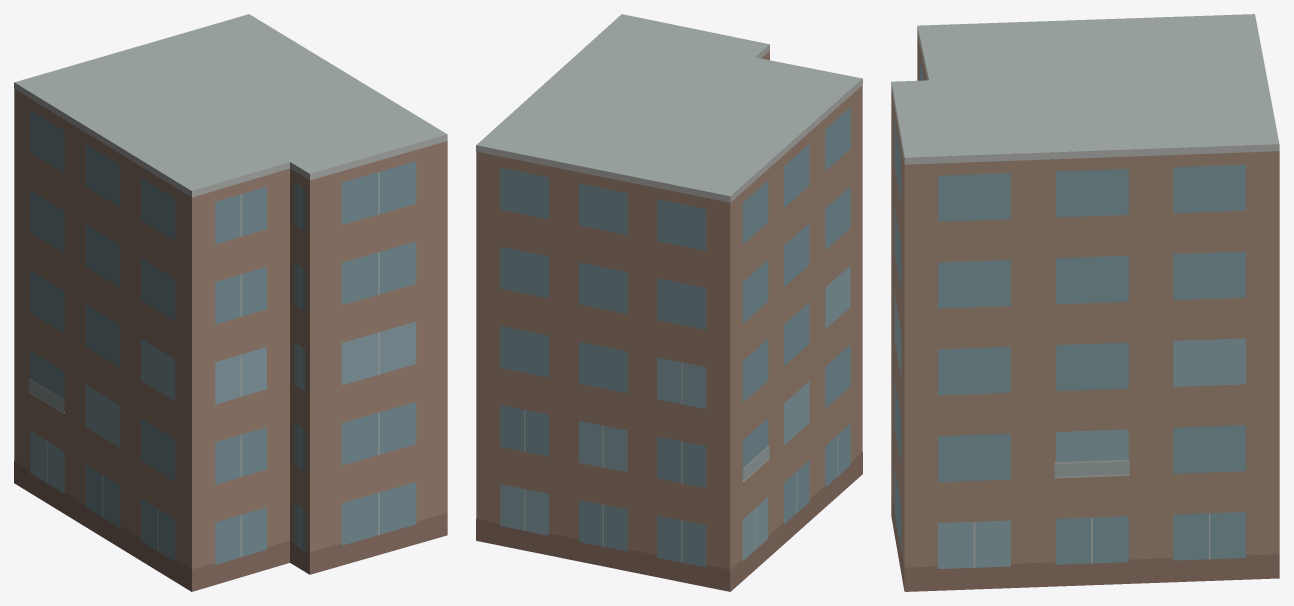
Rendered from survey-upis-32890601.glb.
3 renders of one model, left to right at view 1: azimuth 30°, elevation 25°; view 2: azimuth 150°, elevation 25°; view 3: azimuth 270°, elevation 25°, orthographic. The views are drawn at different scales.
Parts seen in each view (by area): view 1: survey-upis-32890601.tmp; view 2: survey-upis-32890601.tmp; view 3: survey-upis-32890601.tmp.
Boxes of the visible parts, x1,y1,x2,y2 form: survey-upis-32890601.tmp: (14,14,447,591); survey-upis-32890601.tmp: (476,14,862,591); survey-upis-32890601.tmp: (891,14,1279,591).
Bounding box in the file's own units: 10.73 × 15.1 × 12.24.
